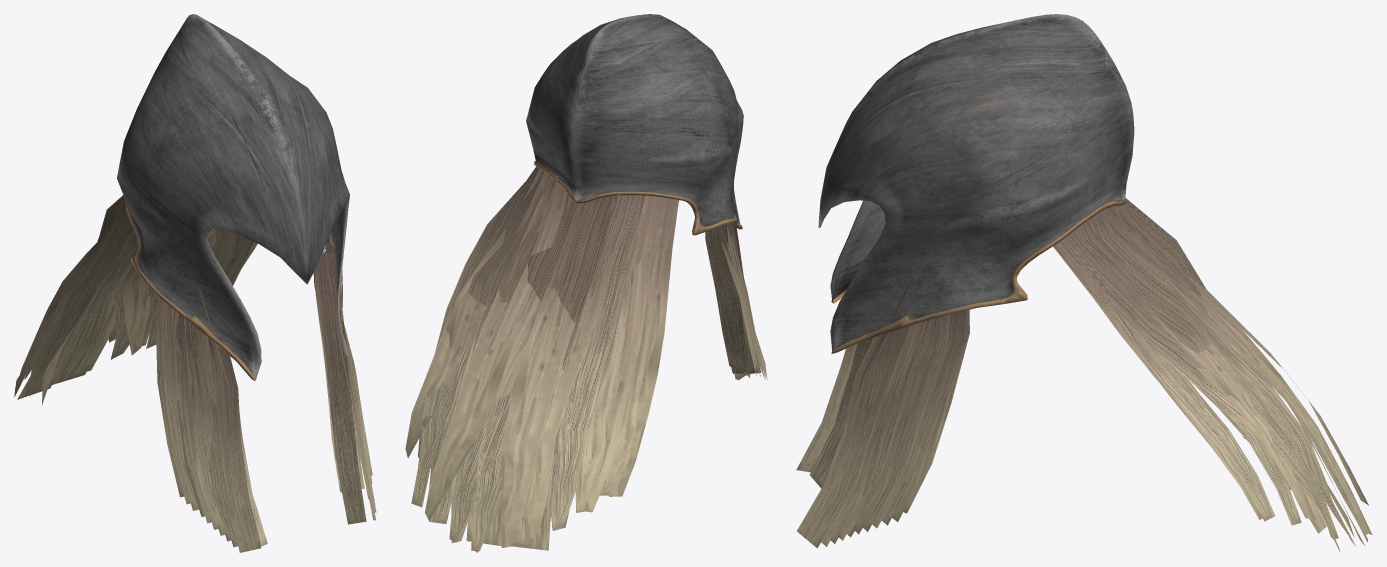
File: mkwd_inf2_t1_helmet_silver_hc.fbx
3 renders of one model, left to right at view 1: azimuth 30°, elevation 25°; view 2: azimuth 150°, elevation 25°; view 3: azimuth 270°, elevation 25°, orthographic. The views are drawn at different scales.
Visible parts, largest first — view 1: mkwd_inf2_t1_helmet_silver_hc.lod0.0, mkwd_inf2_t1_helmet_silver_hc.lod0.1; view 2: mkwd_inf2_t1_helmet_silver_hc.lod0.1, mkwd_inf2_t1_helmet_silver_hc.lod0.0; view 3: mkwd_inf2_t1_helmet_silver_hc.lod0.0, mkwd_inf2_t1_helmet_silver_hc.lod0.1.
Boxes of the visible parts, box(x1,y1,x2,y2) form: mkwd_inf2_t1_helmet_silver_hc.lod0.0: box(117, 14, 349, 380); mkwd_inf2_t1_helmet_silver_hc.lod0.1: box(14, 195, 376, 552); mkwd_inf2_t1_helmet_silver_hc.lod0.1: box(405, 166, 767, 552); mkwd_inf2_t1_helmet_silver_hc.lod0.0: box(526, 14, 743, 235); mkwd_inf2_t1_helmet_silver_hc.lod0.0: box(818, 14, 1134, 353); mkwd_inf2_t1_helmet_silver_hc.lod0.1: box(796, 199, 1372, 552).
Bounding box in the file's own units: 0.239 × 0.4828 × 0.4808.
2 materials, 2 textured.
